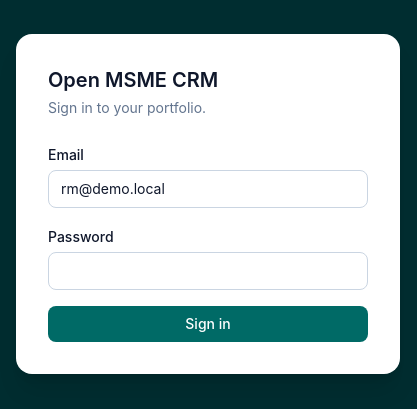
it: App › shows a wrong-password message
Type "nope" into the password field labelled "Password" at (208, 271), box [48,252,368,290]
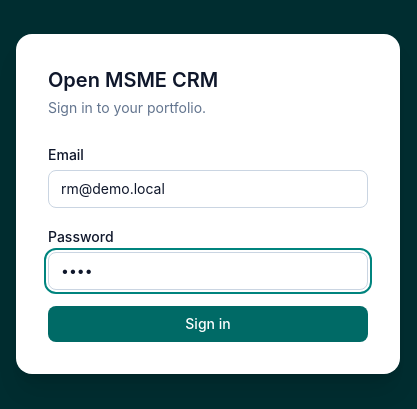
Click the button "Sign in" at (208, 324), box [48,306,368,342]
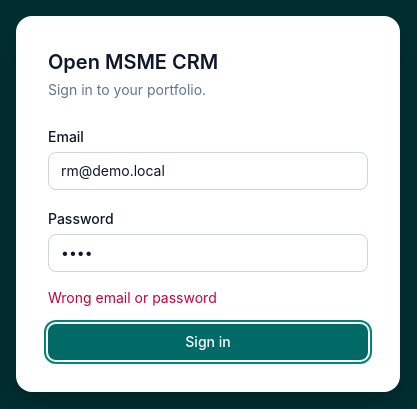
Now the message reads "Wrong email or password", box [48,289,217,306]
